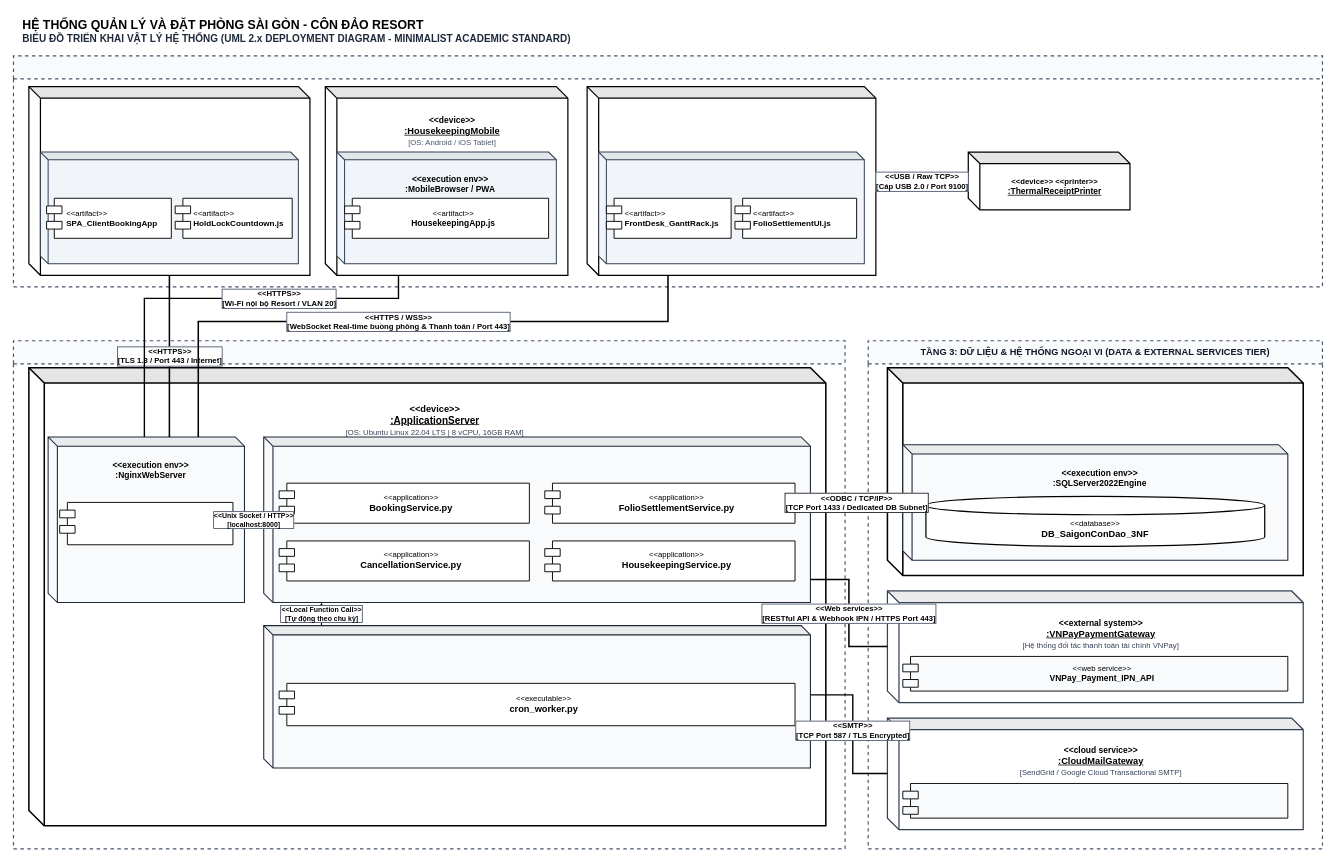
Some shapes in this 1337 by 862 pixel diagram are drawn without their labels. The box of each missing label's shape, as (x1, y1, x2, y2) in pixels:
<<artifact>> nginx.conf: (59, 502, 233, 545)
<<device>> :DatabaseServer [OS: Windows Server 2022 / Dedicated DB Subnet]: (886, 367, 1304, 576)
<<device>> :FrontDeskWorkstation [OS: Windows 11 Pro 64-bit]: (586, 86, 876, 276)
<<device>> :KhachHangDevice [OS: iOS / Android / Windows]: (28, 86, 310, 276)
<<execution env>> :CronDaemonService: (263, 625, 811, 768)
<<execution env>> :DesktopBrowser: (598, 151, 864, 264)
<<execution env>> :PythonWSGIContainer: (263, 436, 811, 603)
<<execution env>> :WebBrowser: (40, 151, 299, 264)
<<web service>> SMTP Transactional Service: (902, 783, 1288, 818)
TẦNG 1: THIẾT BỊ NGƯỜI DÙNG & ĐẦU CUỐI (CLIENT TIER): (13, 55, 1323, 287)
TẦNG 2: MÁY CHỦ ỨNG DỤNG & XỬ LÝ NGHIỆP VỤ (APPLICATION SERVER TIER): (13, 340, 845, 849)
